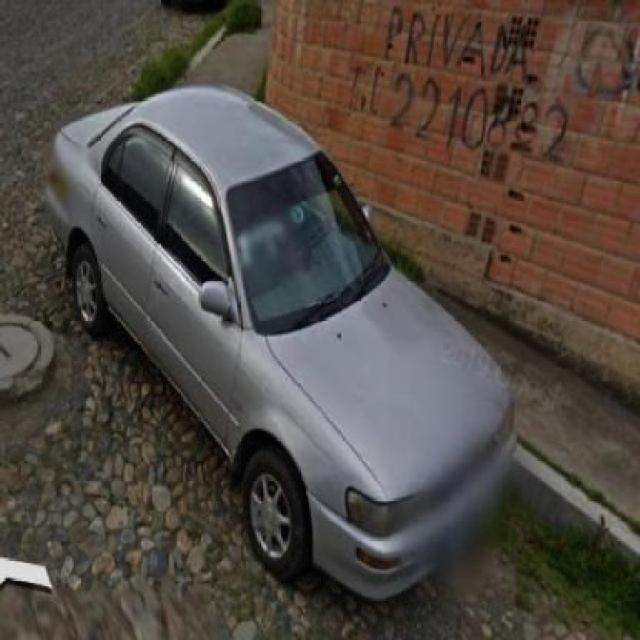car: (32, 91, 520, 619)
